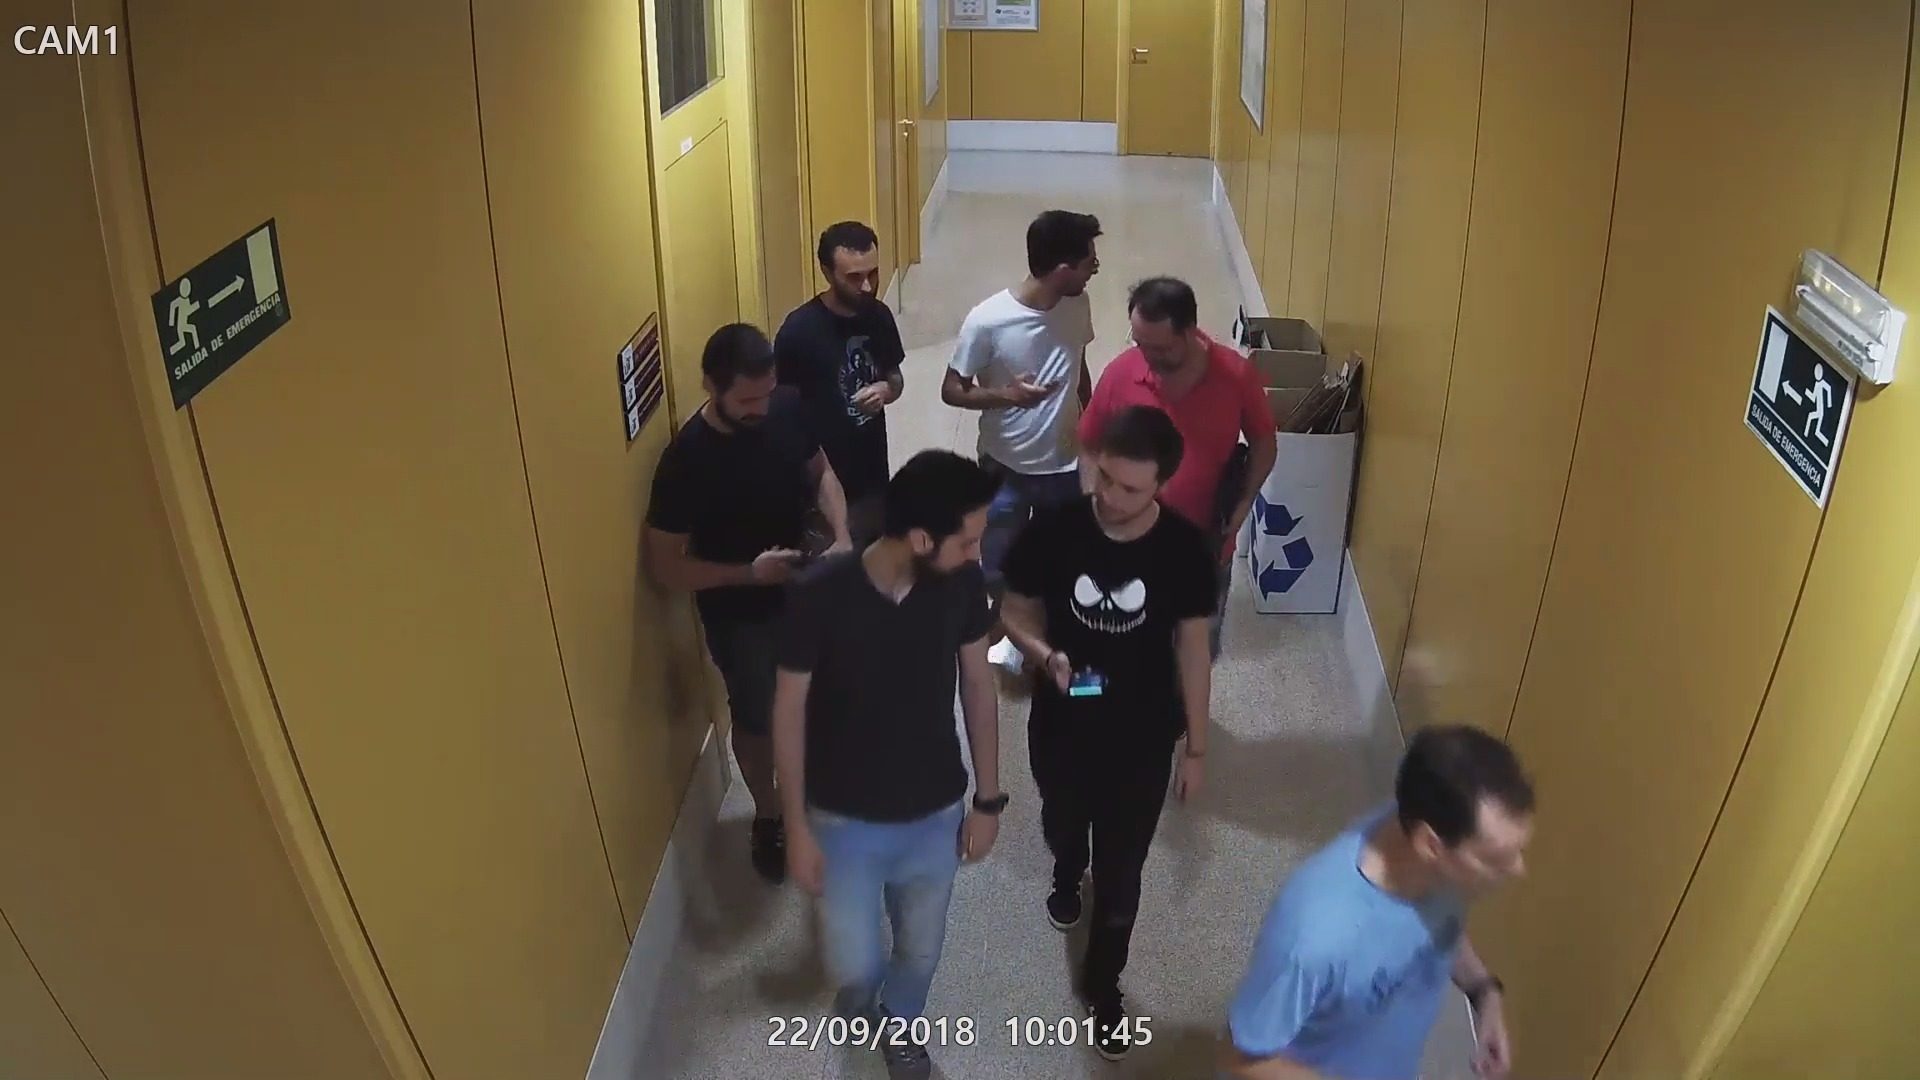Short_rifle: (1205, 425, 1262, 564), (764, 516, 833, 589)
